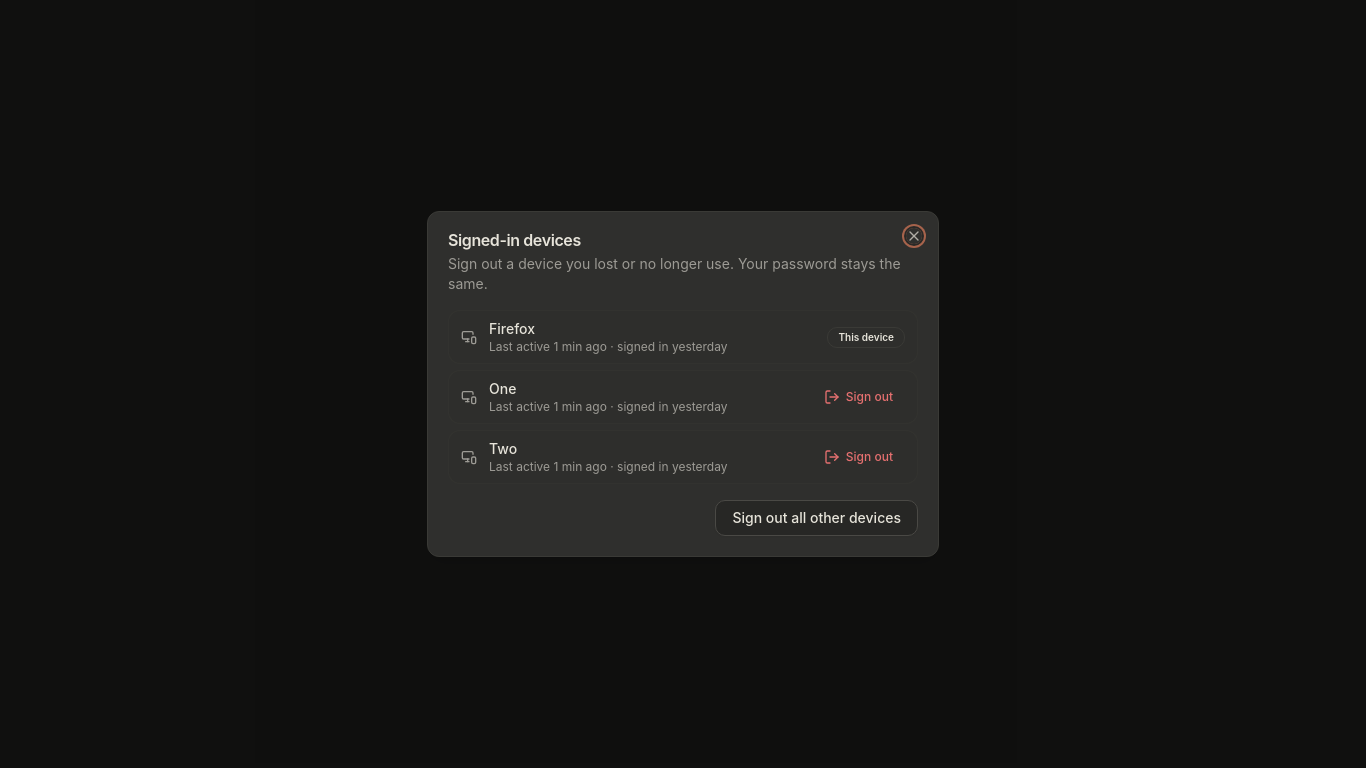
it: SessionsDialog › signs out all other devices and is disabled when there are none
The image size is (1366, 768).
Expected: the text "Two" is shown, [489,440,517,457]
Step 1. Click the button "Sign out all other devices" → [817, 518], box [715,500,918,536]
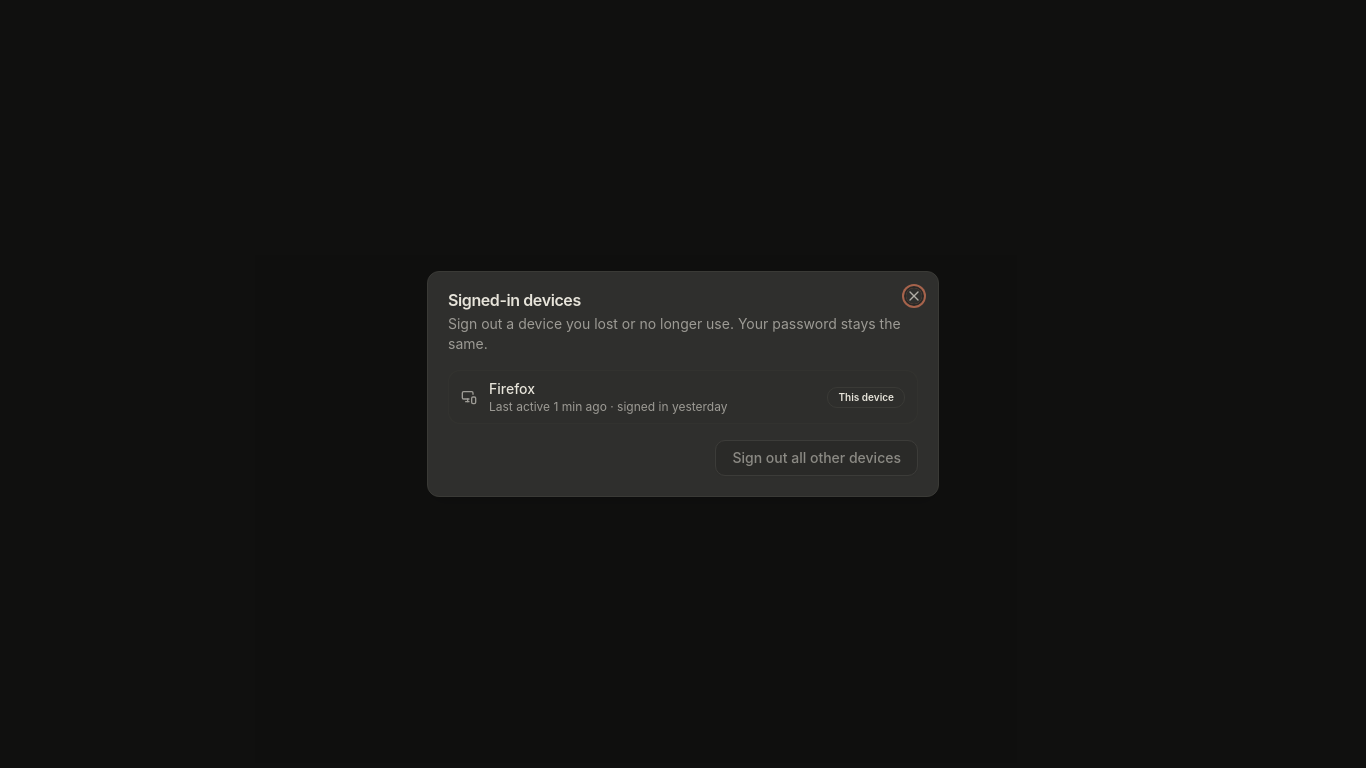
Expected: the text "Two" is gone
Expected: the button "Sign out all other devices" is disabled, [715,440,918,476]
